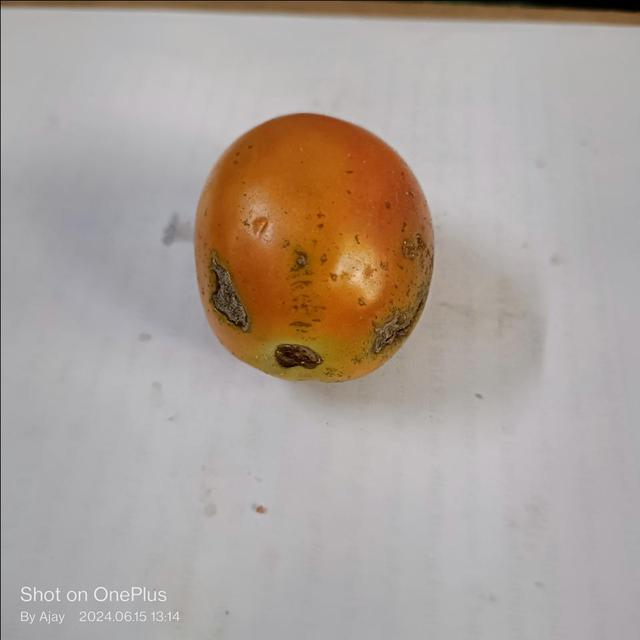Bacterial Spot Fruit: (22, 23, 267, 197)
